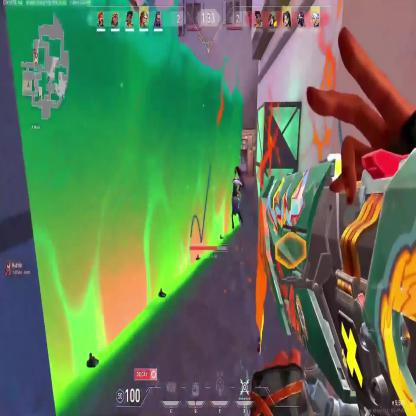enemy: (228, 165, 243, 230)
enemy_head: (234, 166, 240, 178)
